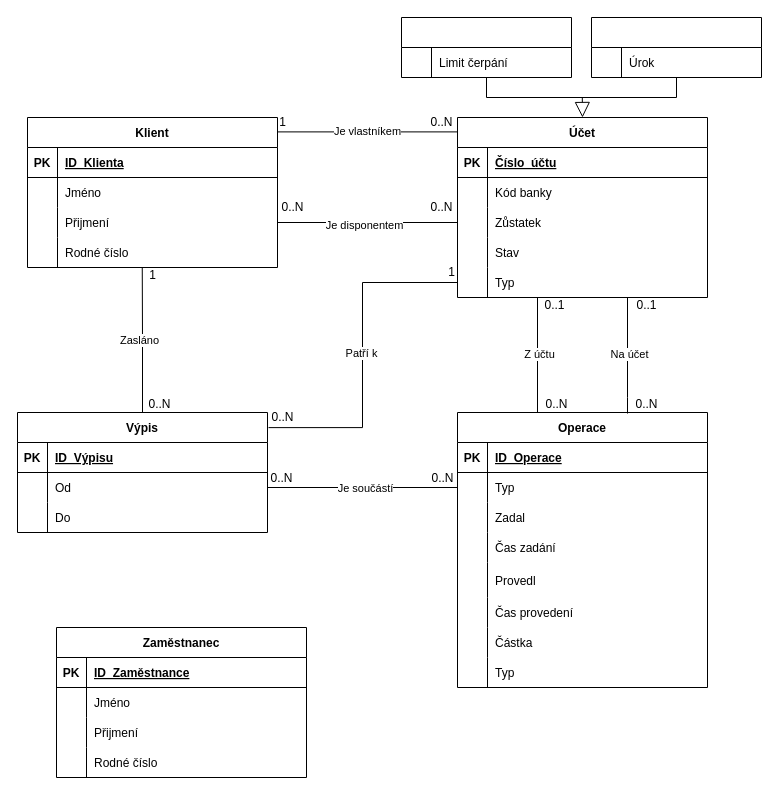
Image size: 779x795. Some labels were removed from this diagram. The shapes that lost their labels are listed below. From the top down, each one's box as (x1, y1, x2, y2) in pixels, then its label:
(400, 16, 572, 78): Běžný
(590, 16, 762, 78): Spořící
